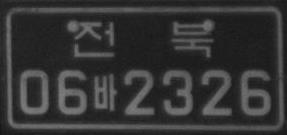0: (18, 68, 49, 115)
2: (201, 67, 232, 116), (123, 68, 155, 115)
3: (161, 68, 193, 117)
6: (239, 67, 272, 115), (57, 69, 88, 115)
바: (93, 74, 118, 111)
전북_D: (73, 18, 214, 58)
